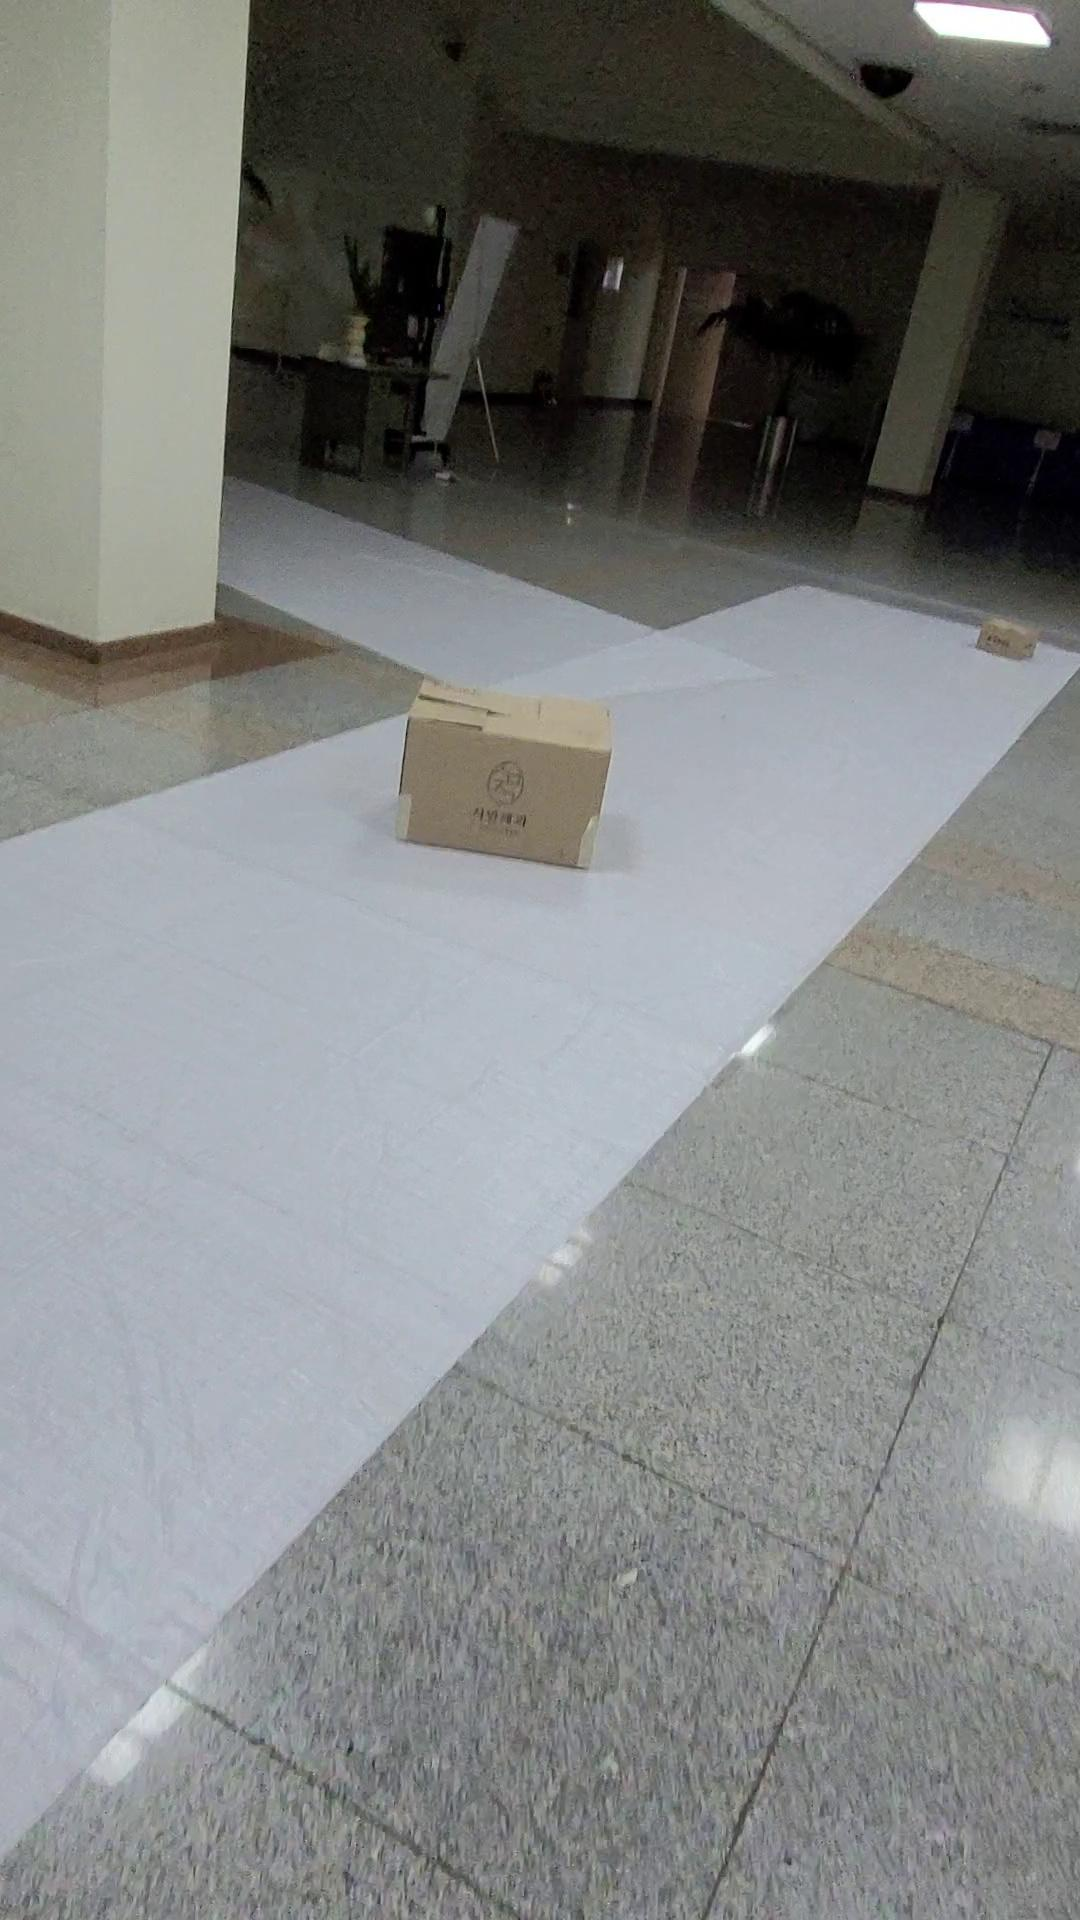Box: (376, 670, 644, 905), (963, 578, 1054, 680)
